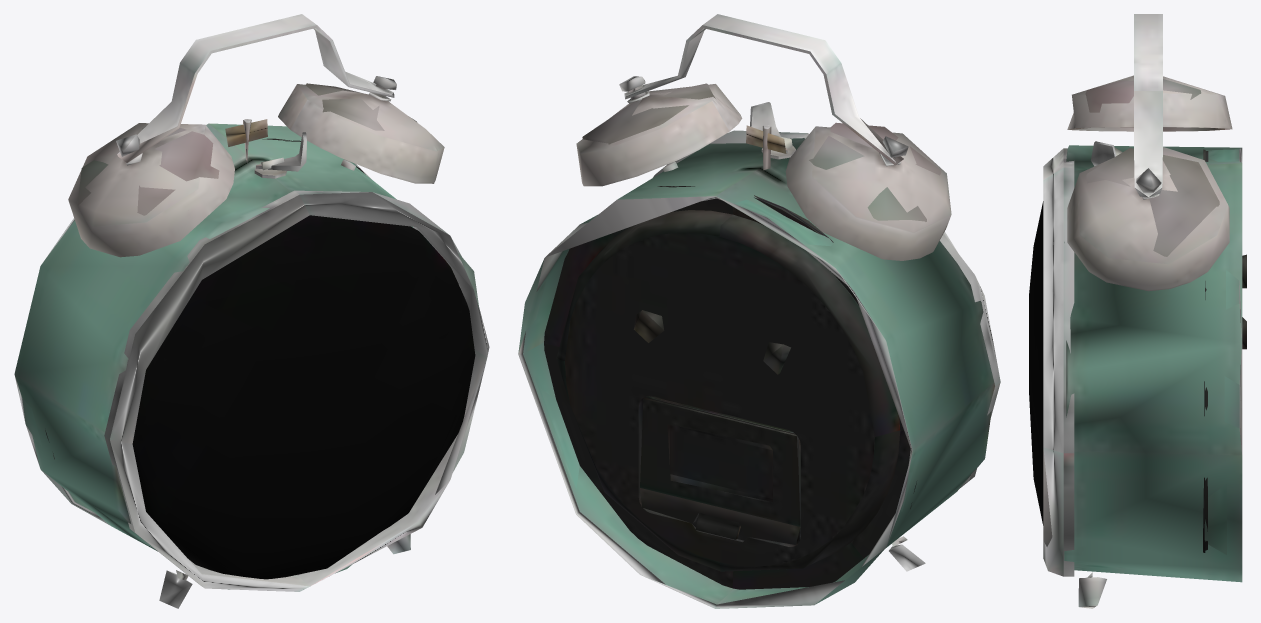
Rendered from alarm.glb.
3 views of the same model, side by side, from view 1: azimuth 30°, elevation 25°; view 2: azimuth 150°, elevation 25°; view 3: azimuth 270°, elevation 25° (orthographic). The views are drawn at different scales.
Parts seen in each view (by area): view 1: alarm; view 2: alarm; view 3: alarm.
Boxes of the visible parts, <box> form: alarm: <box>14,14,489,608</box>; alarm: <box>518,14,1000,608</box>; alarm: <box>1029,14,1246,608</box>.
Bounding box in the file's own units: 0.1312 × 0.1719 × 0.0649.
2 materials, 2 textured.
